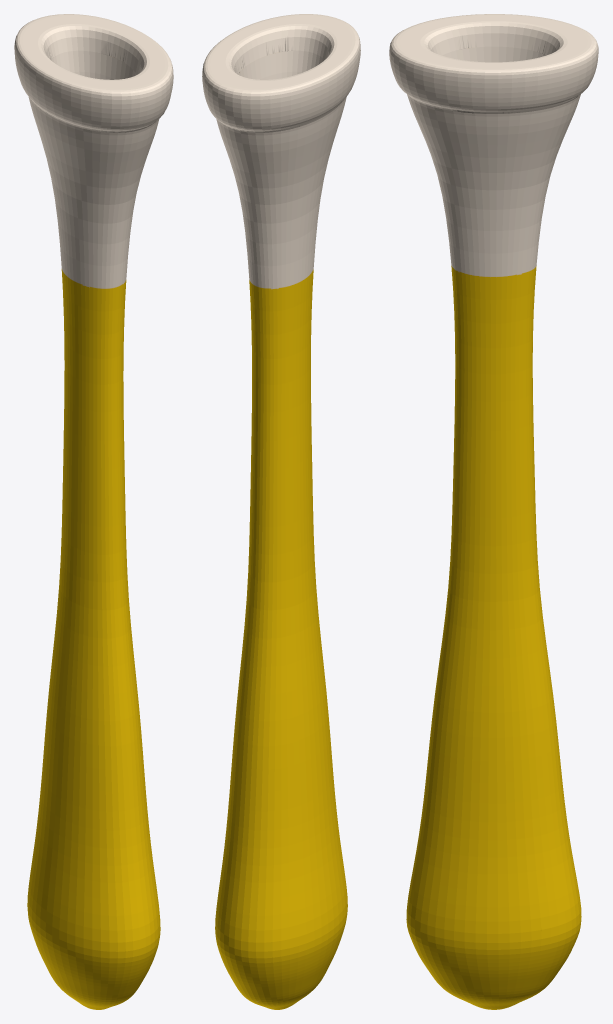
File: Tubo Deforme 5(ESCALADO).fbx
3 views of the same model, side by side, from view 1: azimuth 30°, elevation 25°; view 2: azimuth 150°, elevation 25°; view 3: azimuth 270°, elevation 25° (orthographic).
Parts seen in each view (by area): view 1: Tubo_Deformado_5; view 2: Tubo_Deformado_5; view 3: Tubo_Deformado_5.
Part boxes in pixels (left/top/right/bottom): Tubo_Deformado_5: left=14, top=14, right=173, bottom=1009; Tubo_Deformado_5: left=202, top=14, right=360, bottom=1009; Tubo_Deformado_5: left=389, top=14, right=598, bottom=1009.
Size of the model in its own units: 0.0487 by 0.3681 by 0.0722.
